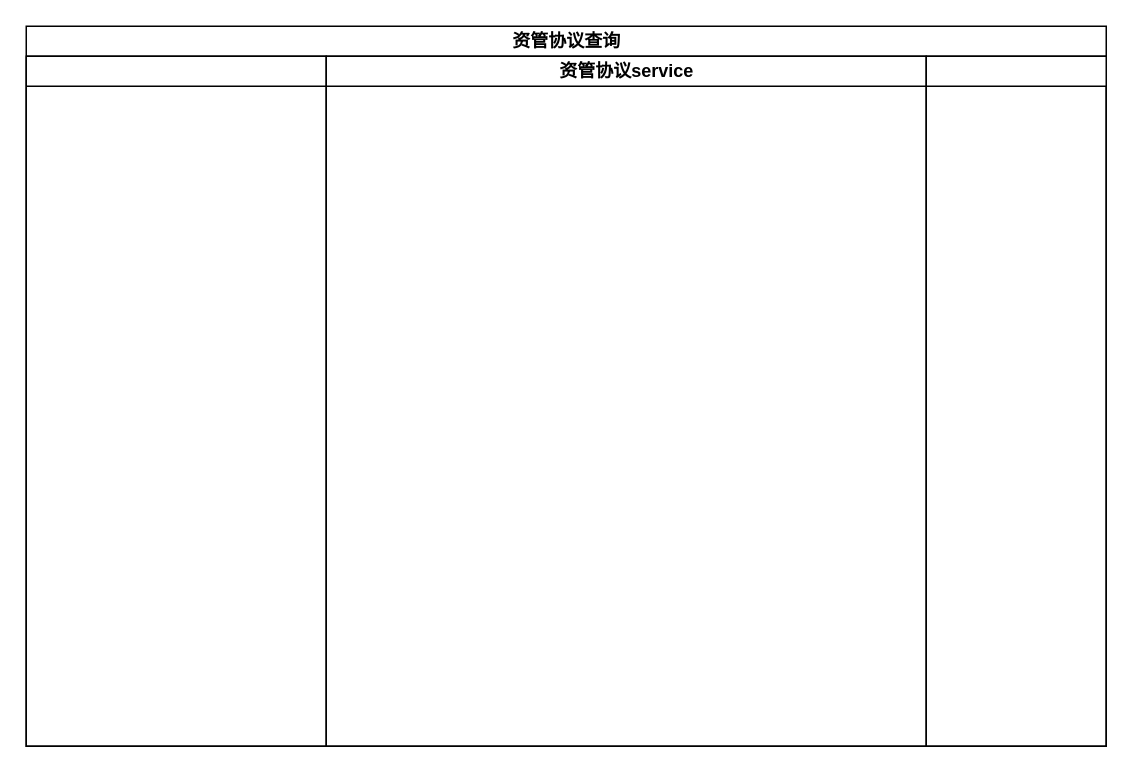
Image size: 1133x773. Some labels were removed from this diagram. Here are the shapes that lost their labels. From the top down, the centre of each, then its label:
[175,400]: 资管协议controller
[1015,400]: 资管协议dao
